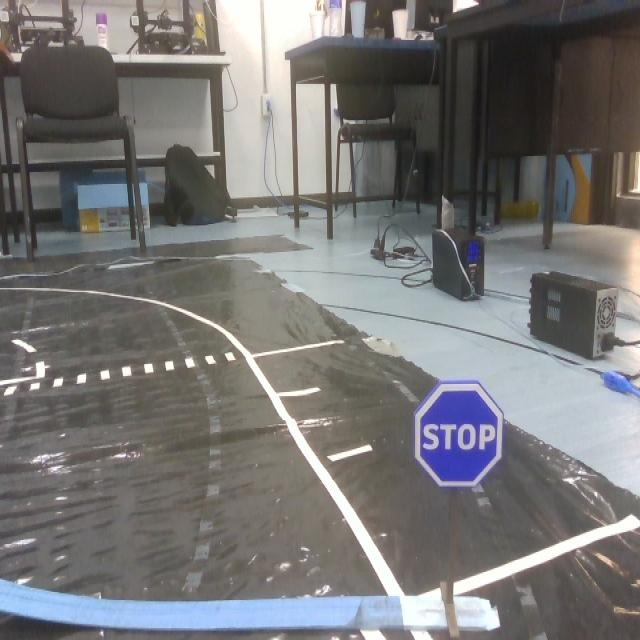no_entry: (412, 381, 489, 496)
